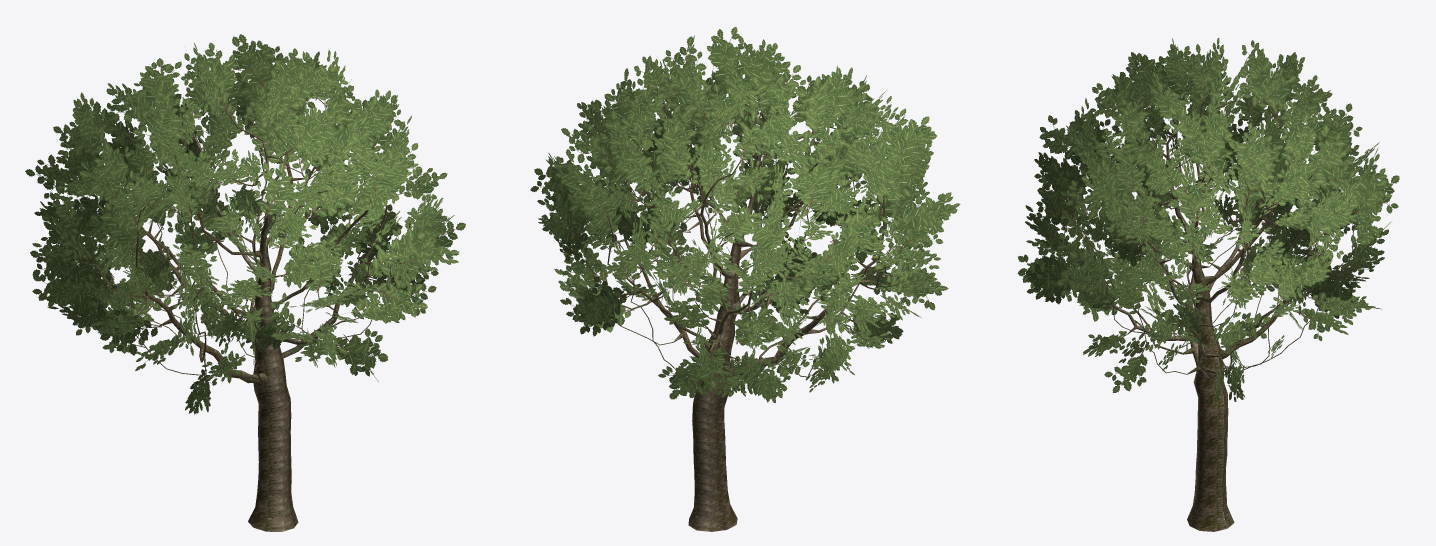
Rendered from Scenery_Tree_V3.fbx.
3 views of the same model, side by side, from view 1: azimuth 30°, elevation 25°; view 2: azimuth 150°, elevation 25°; view 3: azimuth 270°, elevation 25° (orthographic). The views are drawn at different scales.
Visible parts, largest first — view 1: Scenery_Tree_V3_LOD0; view 2: Scenery_Tree_V3_LOD0; view 3: Scenery_Tree_V3_LOD0.
Boxes of the visible parts, x1,y1,x2,y2 form: Scenery_Tree_V3_LOD0: [25, 34, 465, 531]; Scenery_Tree_V3_LOD0: [530, 27, 960, 531]; Scenery_Tree_V3_LOD0: [1017, 38, 1399, 531].
Size of what is drawn, in the model's own units: 13.39 by 14.81 by 12.24.
